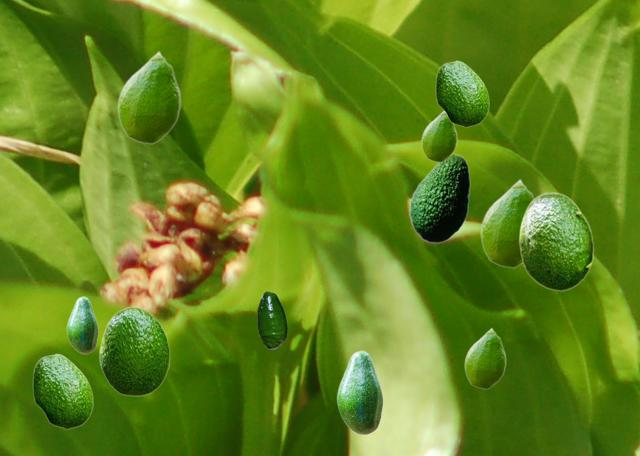avocado: (518, 192, 593, 290), (99, 306, 169, 395), (117, 50, 180, 143), (409, 153, 469, 242), (480, 178, 535, 267), (32, 353, 92, 428), (336, 350, 382, 434), (435, 60, 488, 126), (464, 327, 505, 388), (66, 296, 97, 353), (421, 111, 456, 161), (257, 291, 286, 348)
